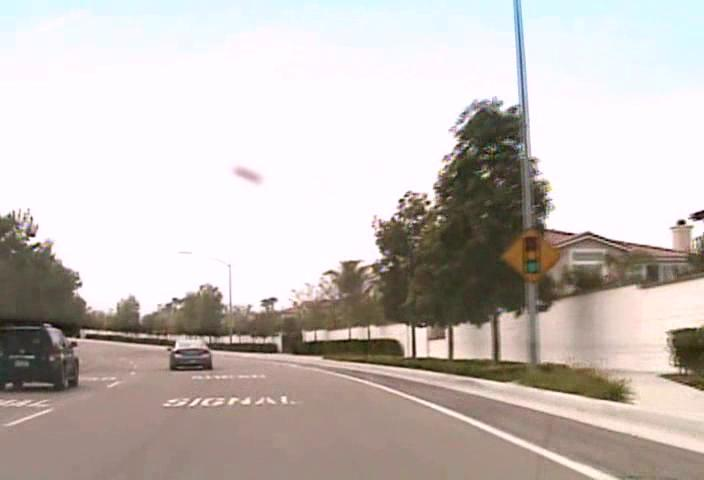signalAhead: (500, 225, 560, 284)
